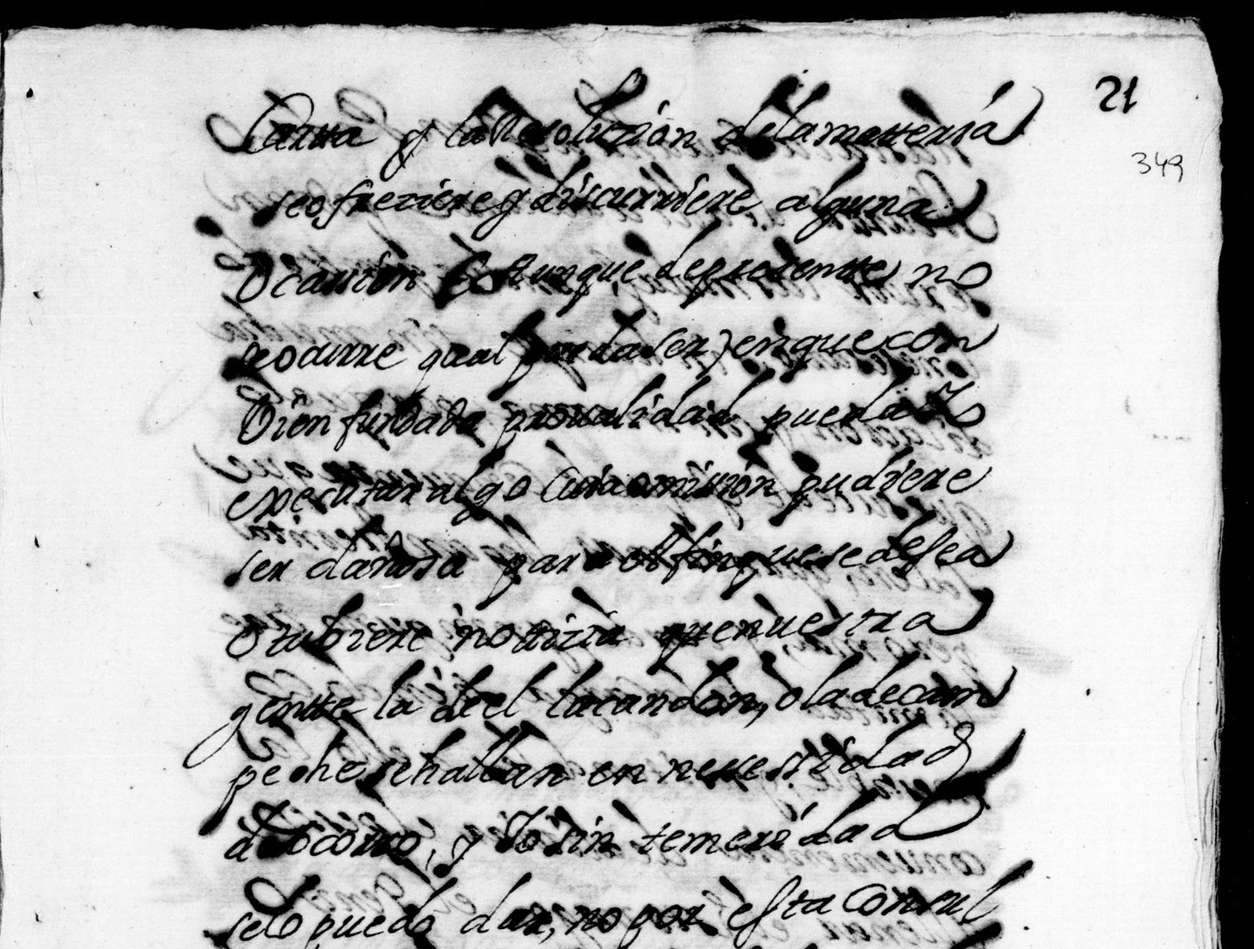lacandon: (545, 656, 763, 718)
